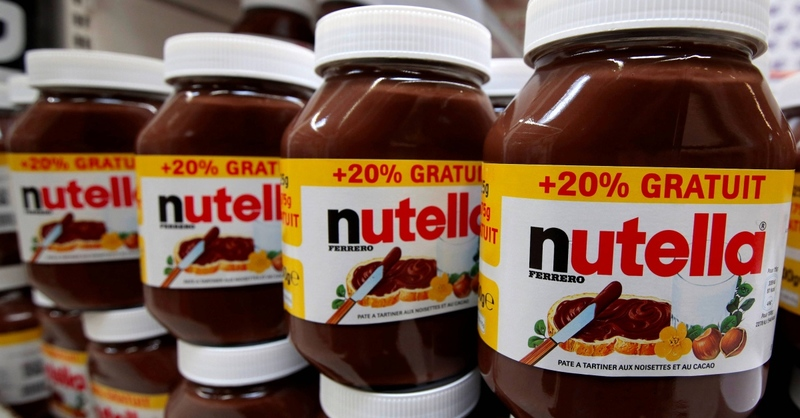nutella: (479, 1, 797, 415), (278, 6, 494, 389), (135, 31, 315, 347), (2, 48, 167, 313)
